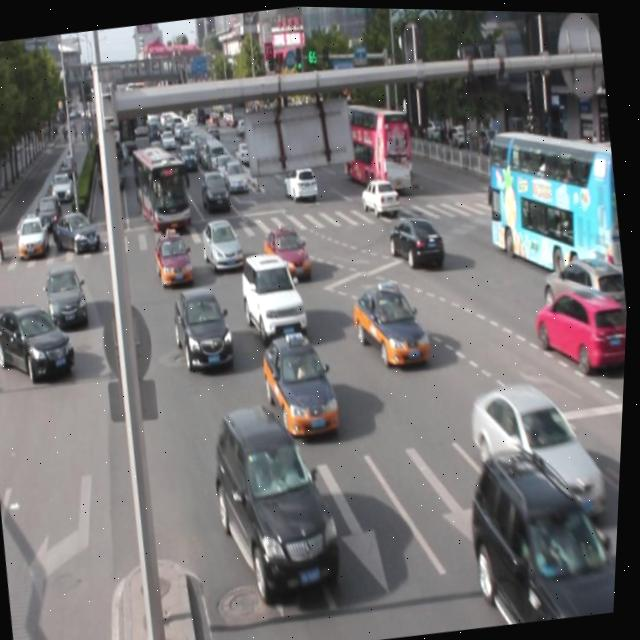car: (459, 429, 625, 628), (204, 391, 354, 610), (466, 369, 615, 528), (529, 274, 631, 378), (259, 326, 347, 441), (538, 247, 632, 334), (351, 277, 436, 372), (238, 246, 314, 343), (169, 281, 241, 377), (387, 210, 450, 273), (43, 261, 96, 332), (261, 221, 317, 285), (154, 228, 200, 288), (202, 215, 249, 272)
van: (477, 113, 633, 302)
